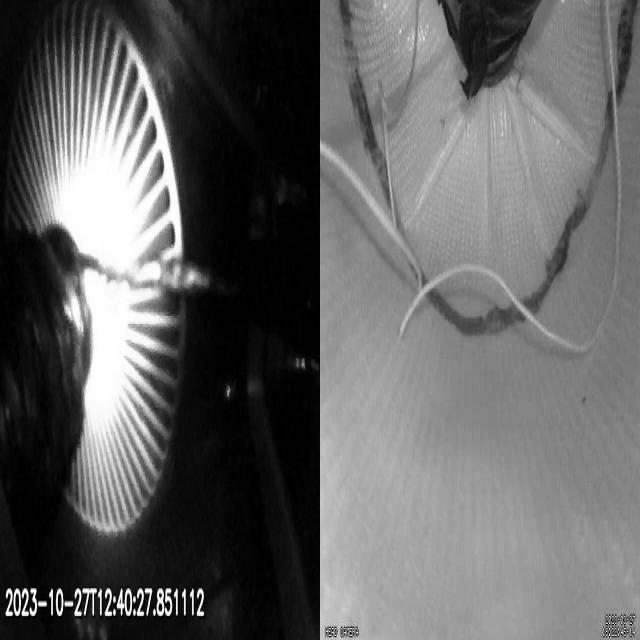red-circle: (338, 0, 636, 341)
